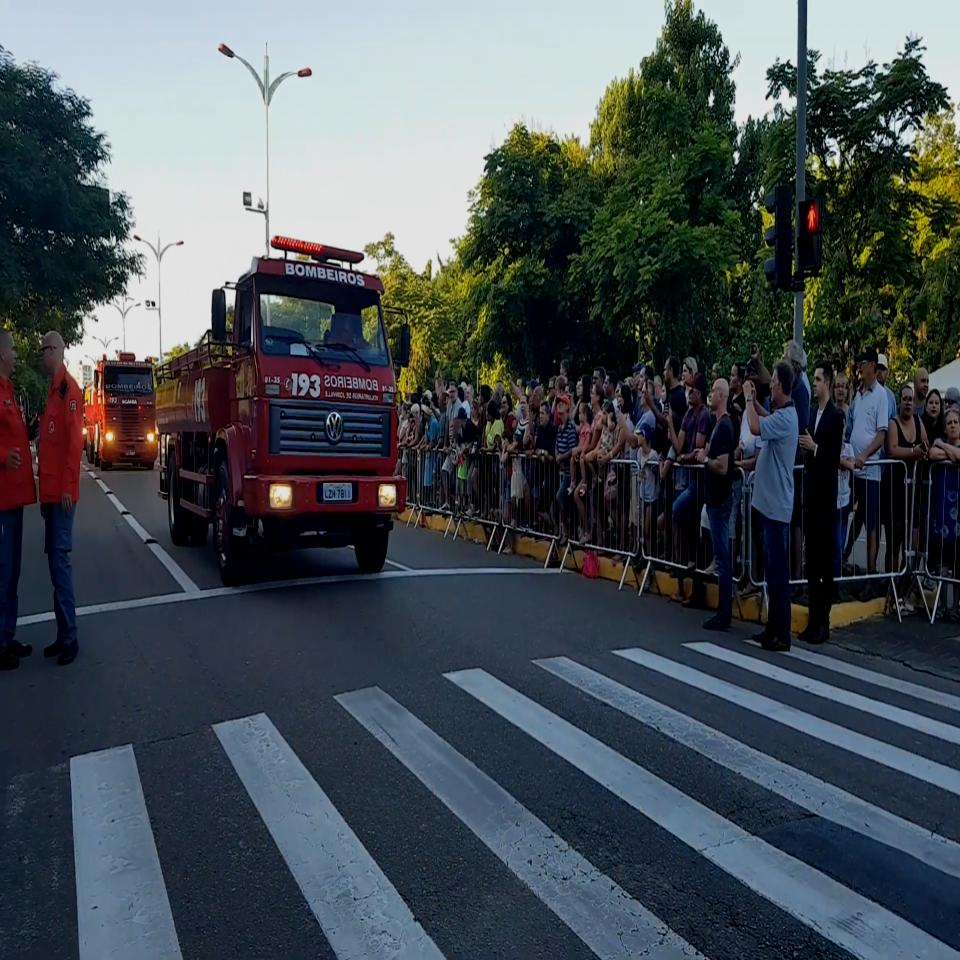bombeiro: (154, 230, 413, 586)
